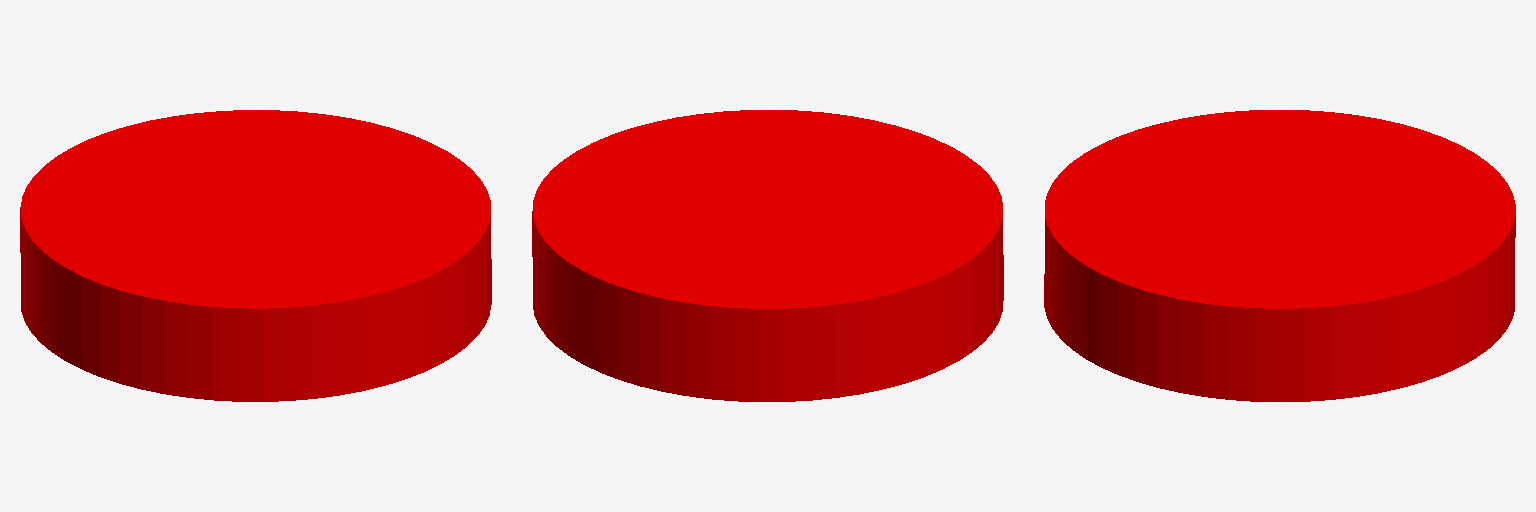
URDF robot description (robot):
<?xml version="1.0"?>
<robot>
    <!-- token -->
    <link name="token_link">
        <visual>
            <origin xyz="0 0 0" rpy="1.57 0 0" />
            <geometry>
                <mesh filename="package://ece383-final-project/meshes/visual/token.stl" scale="0.001 0.001 0.001"/>
            </geometry>
            <material name="">
                <color rgba="1 0 0 1" />
            </material>
        </visual>

        <collision>
            <origin xyz="0 0 0" rpy="1.57 0 0" />
            <geometry>
                <mesh filename="package://ece383-final-project/meshes/visual/token.stl" scale="0.001 0.001 0.001"/>
            </geometry>
        </collision>

        <inertial>
            <mass value="1" />
            <origin xyz="0 0 0" rpy="0 0 0"/>
            <inertia ixx="1e-1" ixy="0" ixz="0" iyy="1e-1" iyz="0" izz="1e-1" />
        </inertial>
    </link>

    <gazebo reference="token_link">
        <material>Gazebo/Red</material>
    </gazebo>
</robot>

--- Render facts (derived) ---
The picture shows the robot from 3 angles, left to right: view 1: azimuth 30°, elevation 25°; view 2: azimuth 150°, elevation 25°; view 3: azimuth 270°, elevation 25°; orthographic projection.
Model robot with 1 links and 0 joints (none), rooted at token_link, posed all joints at 0.
Links seen in each view (by area): view 1: token_link; view 2: token_link; view 3: token_link.
Link boxes in pixels (x1,y1,x2,y2): token_link: [20, 110, 491, 401]; token_link: [532, 110, 1003, 401]; token_link: [1044, 110, 1515, 401].
Bounding box of the posed robot: 0.032 × 0.032 × 0.007 m (x, y, z).
Meshes: 1 distinct files referenced, 1 mesh visuals loaded (1 binary STL).